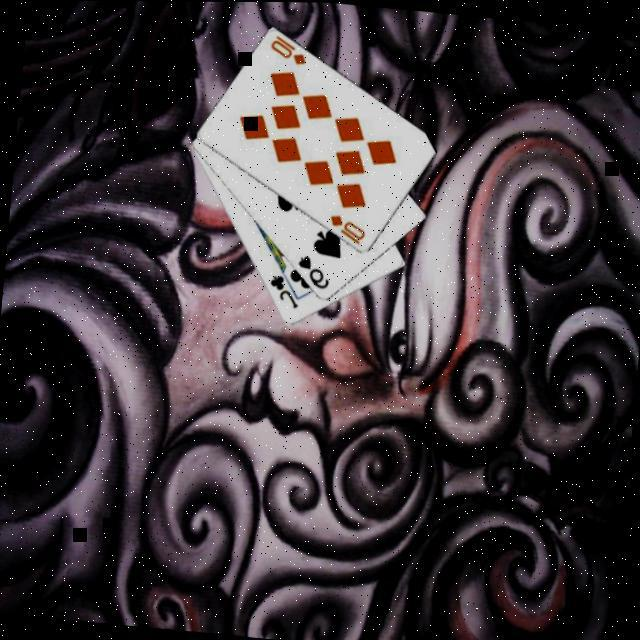10D: (325, 212, 370, 249), (266, 32, 311, 69)
6S: (293, 254, 334, 294)
JC: (265, 273, 304, 314)
